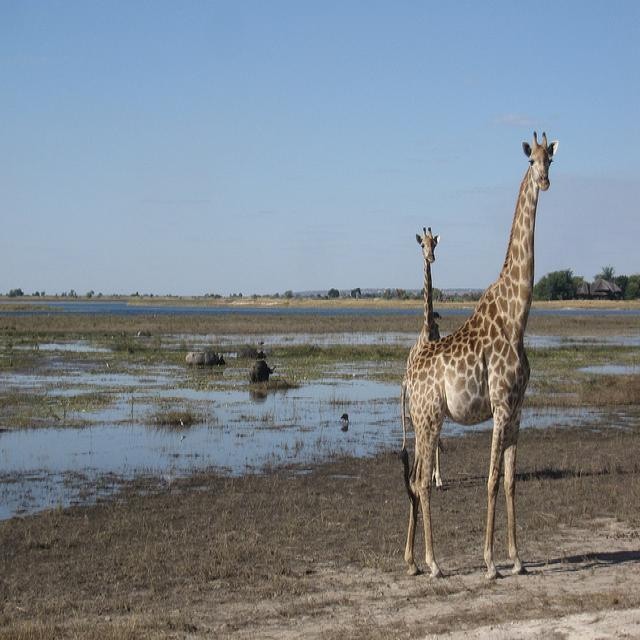cow: (193, 349, 225, 367), (248, 360, 272, 381), (239, 345, 265, 359)
